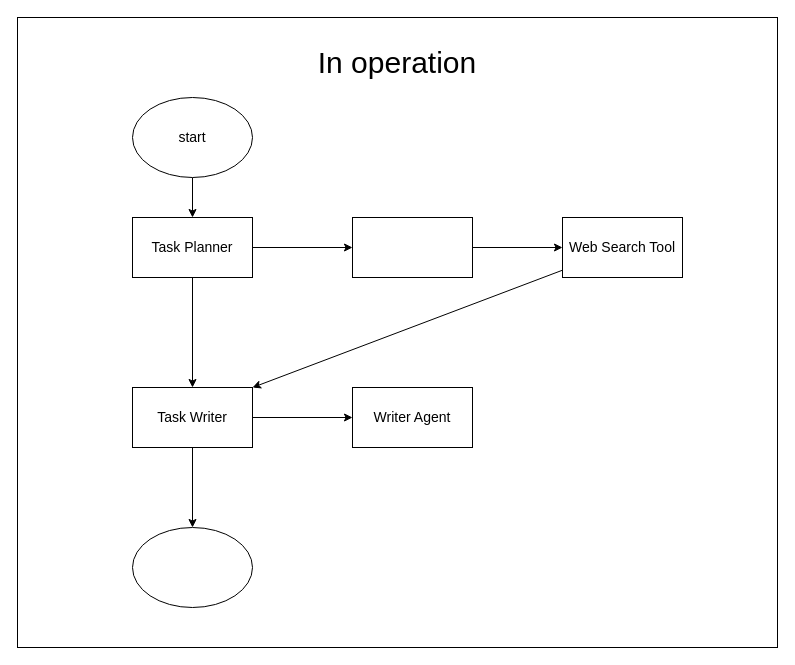
This 795x665 diagram has some shape labels left out. Here are the shapes that lost their labels. From the top down, the box of each, then its label:
(352, 216, 472, 278): Planner Agent
(132, 526, 252, 608): end
